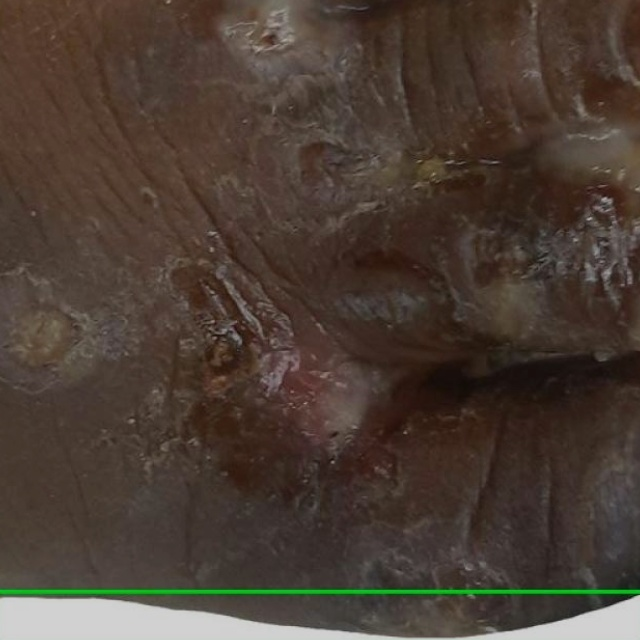Eczema: (0, 591, 639, 639)
